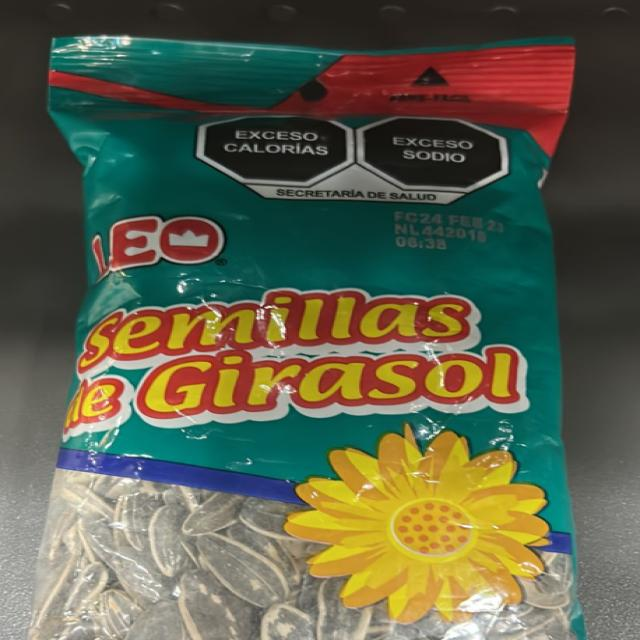semillasGirasol: (81, 40, 558, 640)
